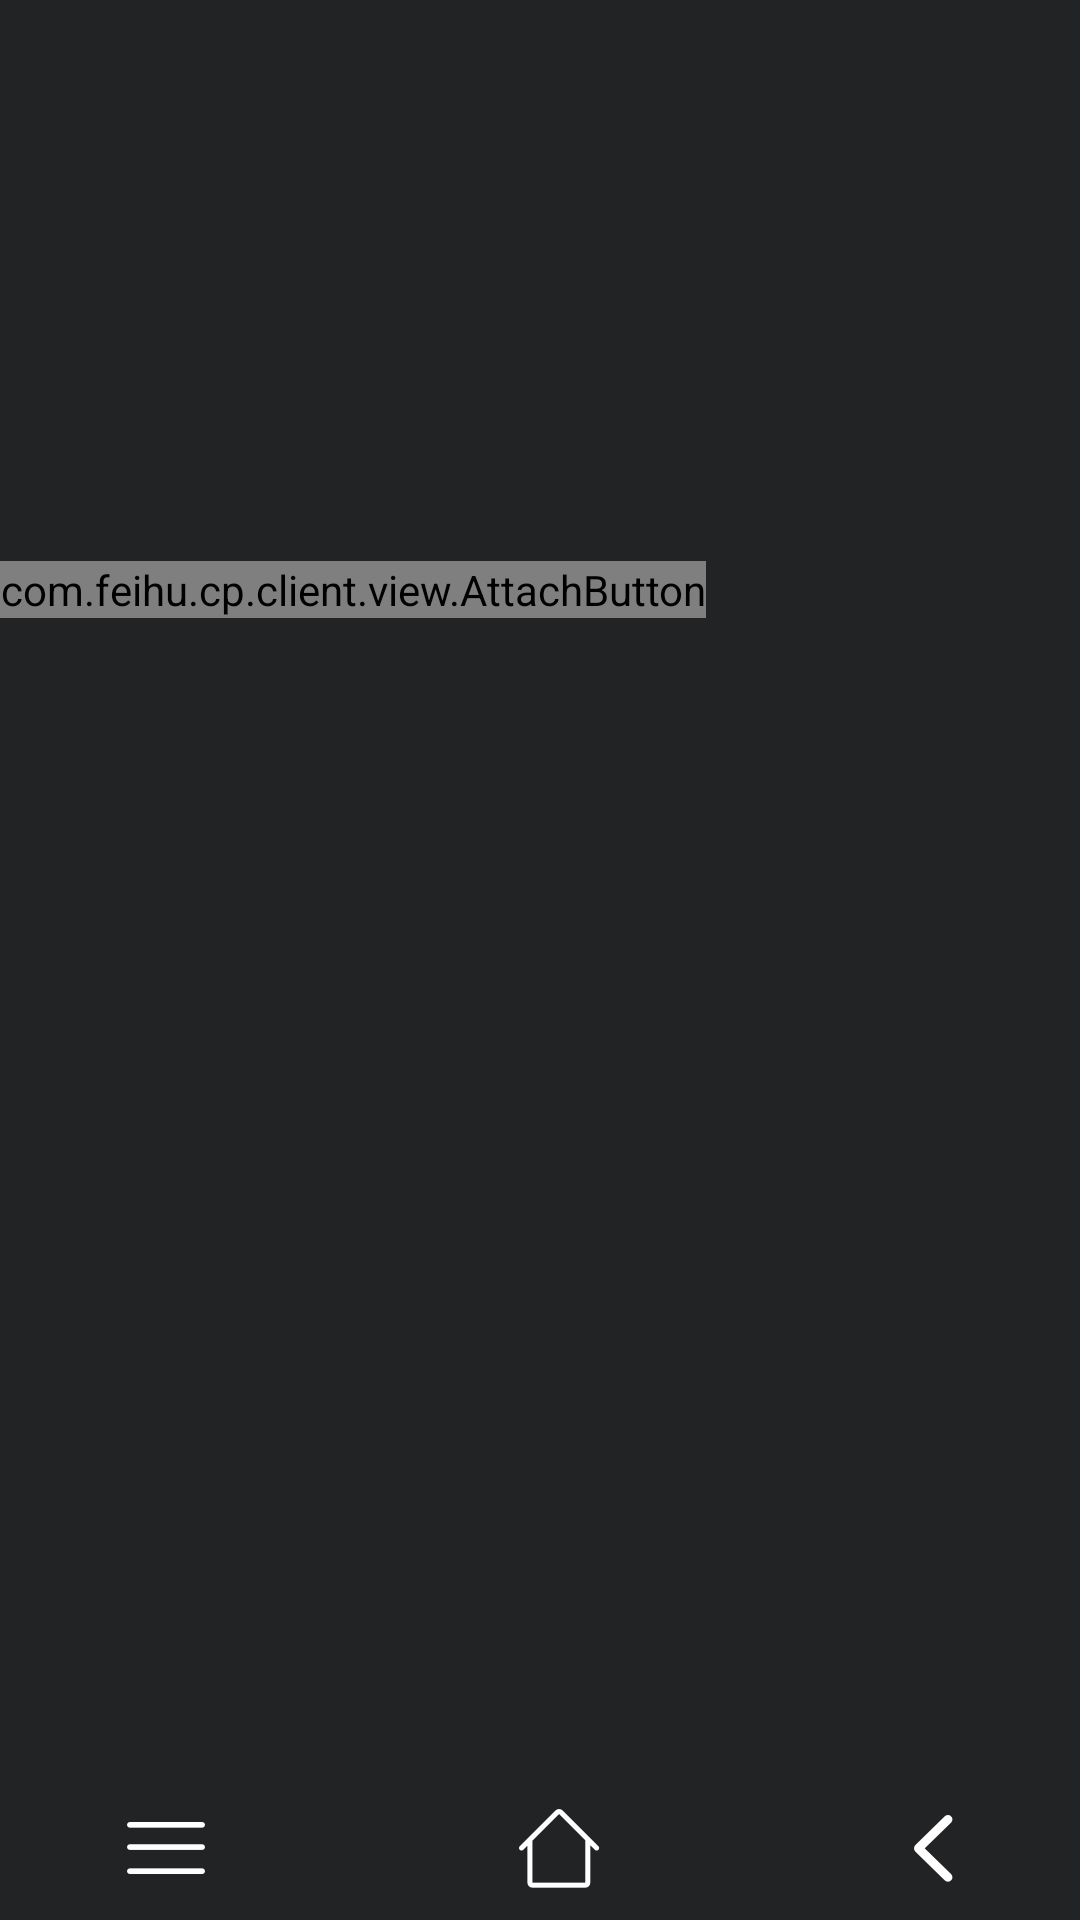

Icons on this 1080px×1920px Android screen, each with its box as (x1,y1,x2,y2):
setting back: (914,1815,953,1882)
setting home: (519,1809,599,1888)
